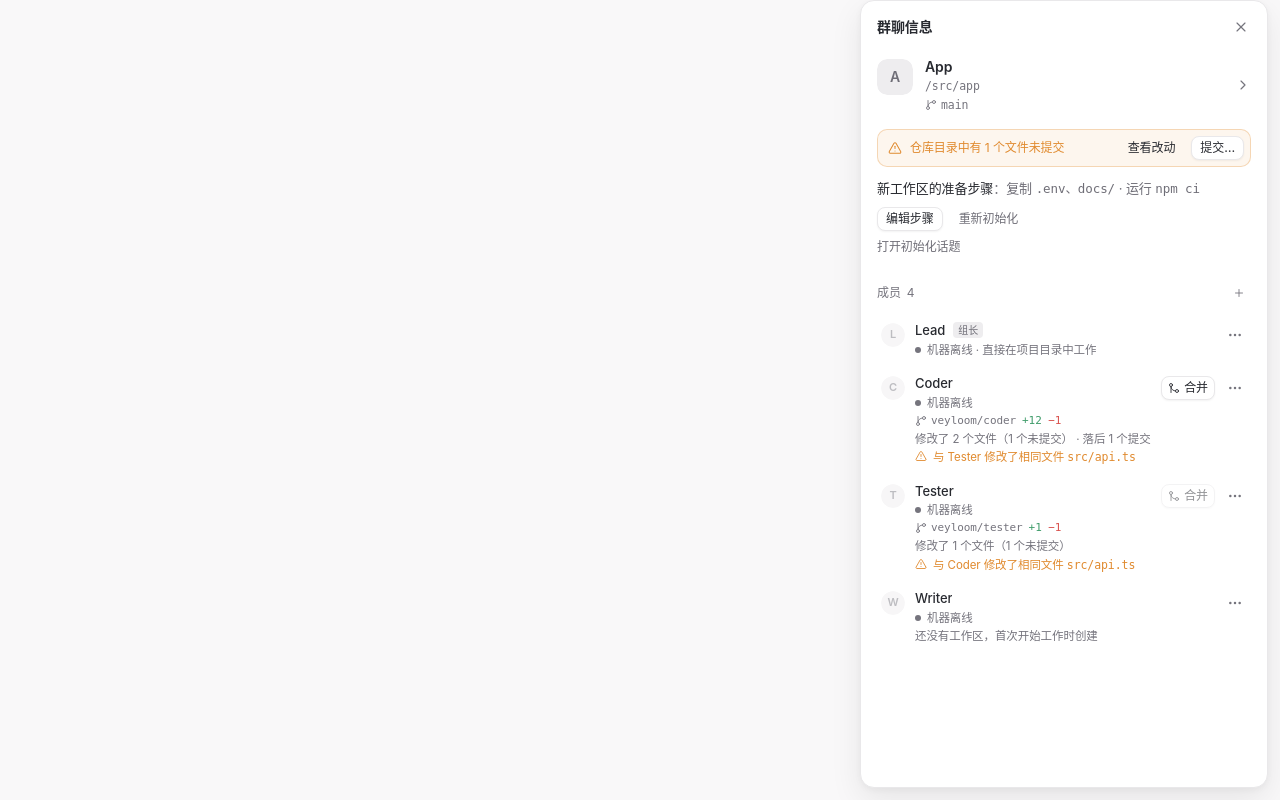
Test: the checkout in the chat’s info › reads what the checkout changed
Click the button "查看改动": click(1151, 148) [1120,136,1183,160]
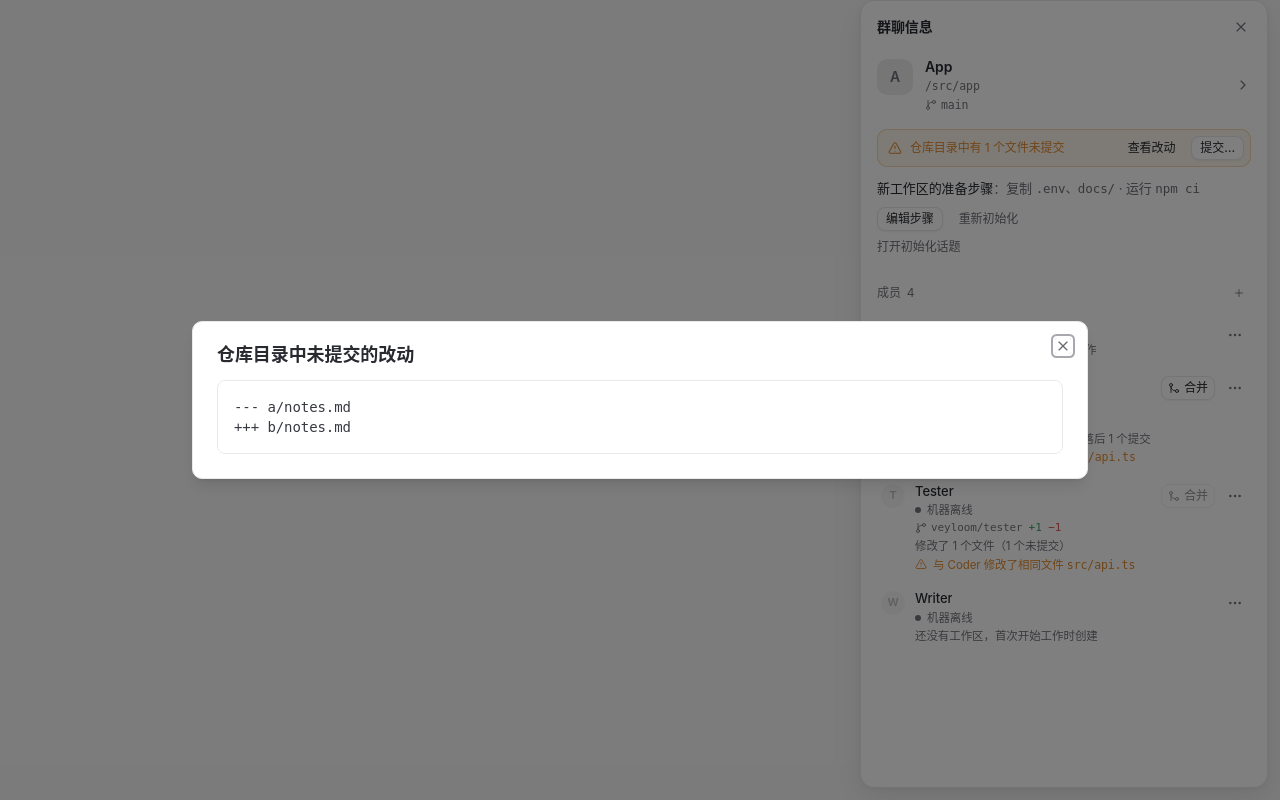
Check: the dialog "仓库目录中未提交的改动" is shown, box [192,321,1088,479]
